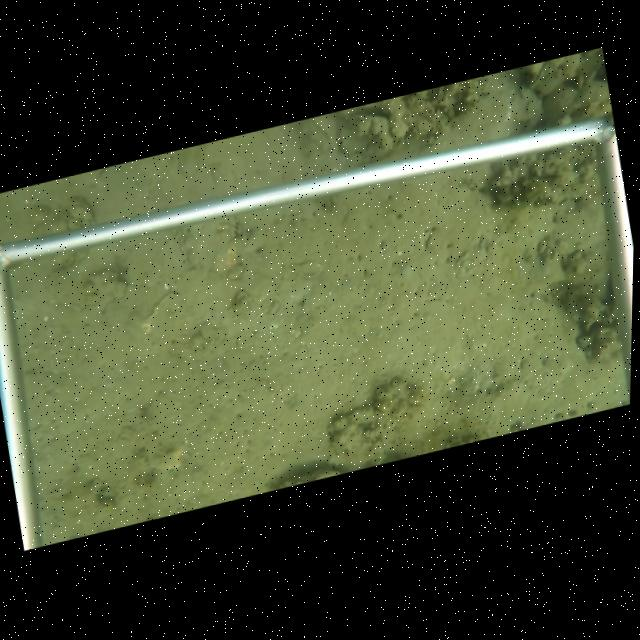Oyster-Closed: (526, 61, 550, 90)
